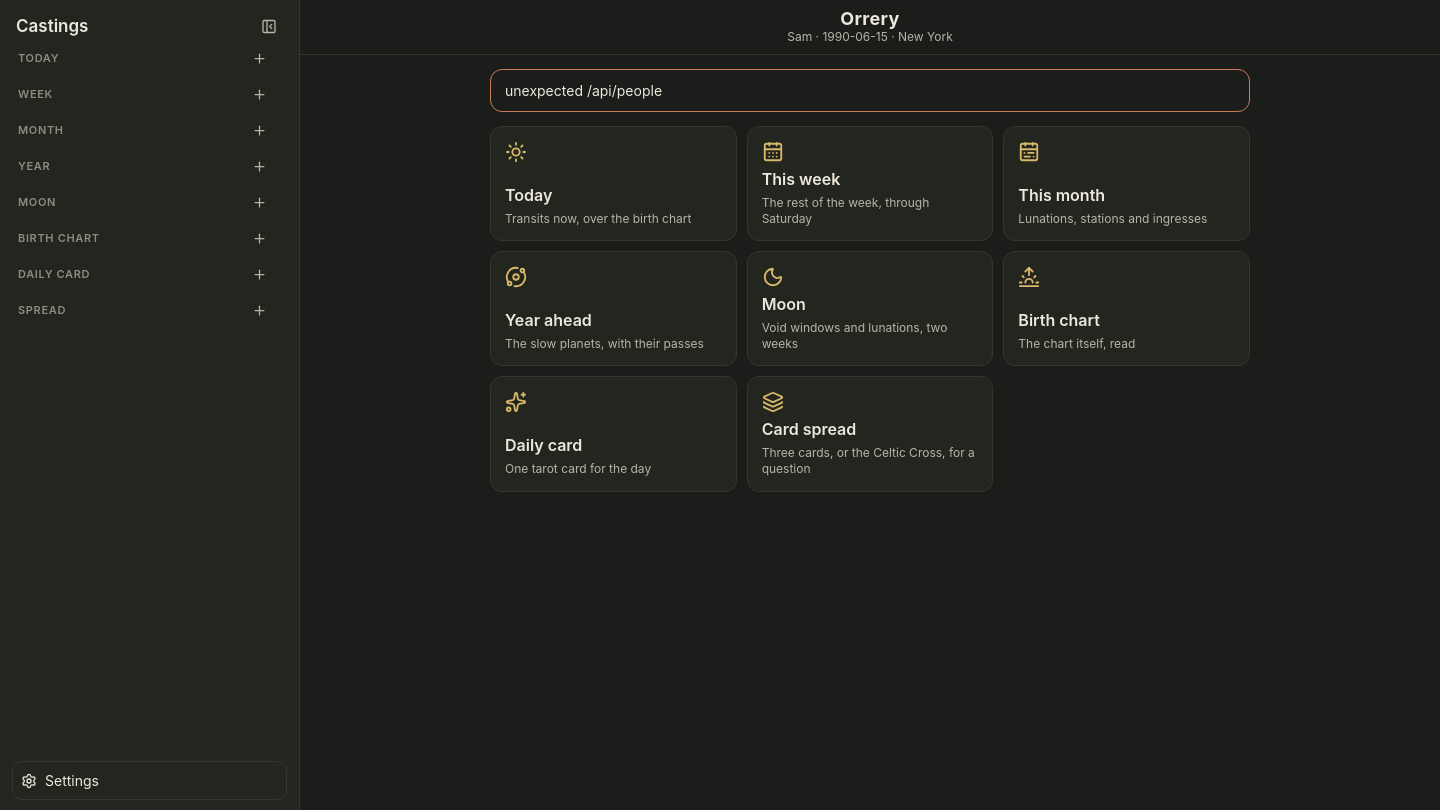
Scenario: App › opens a popup from a tile where memory, the memories, the kind and a note are chosen, then casts with them
Step 1. Click the list item "Void windows and lunations, two weeks" → (870, 309), box [747, 251, 993, 366]
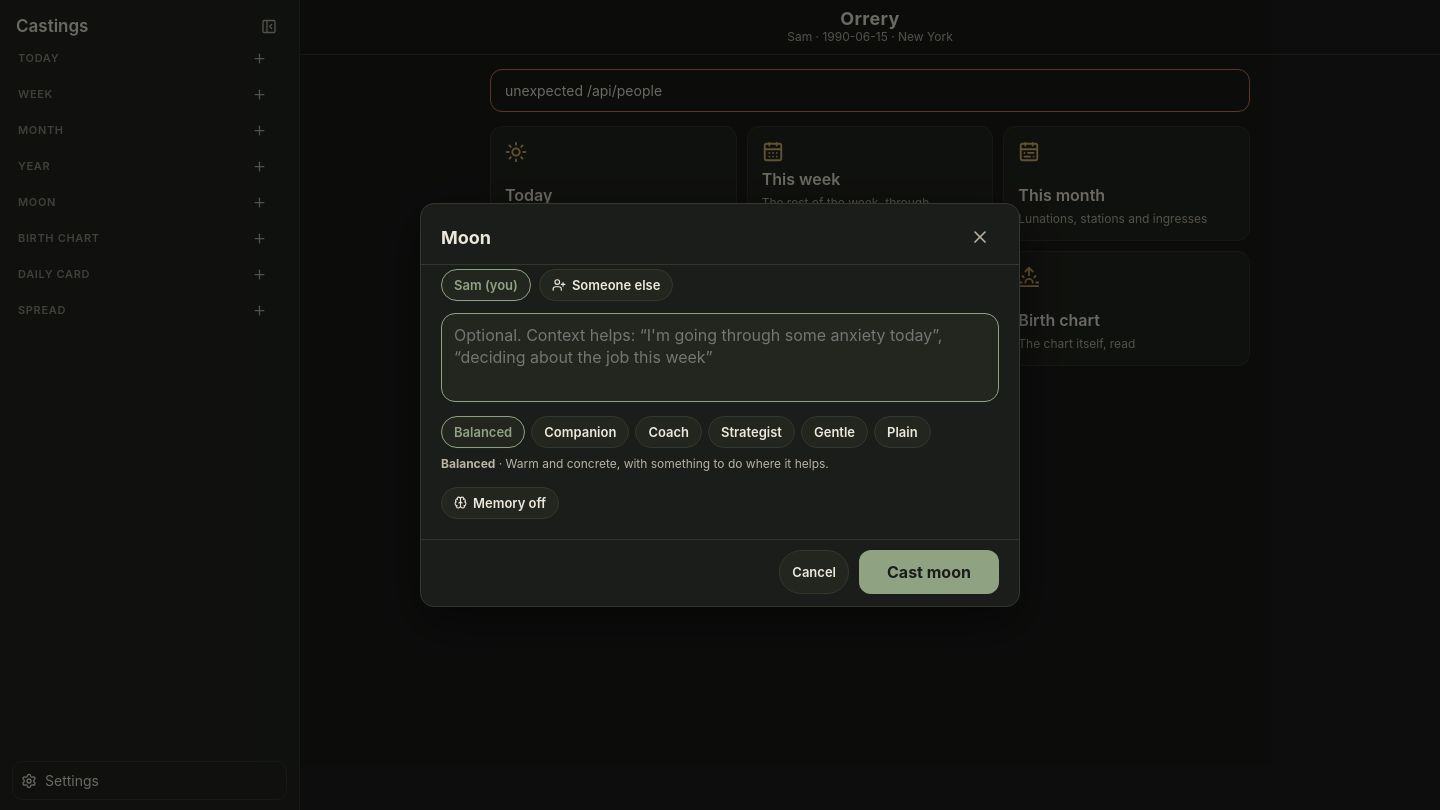
Step 2. Click the switch labelled "Memory off" → (500, 503), box [441, 487, 559, 519]
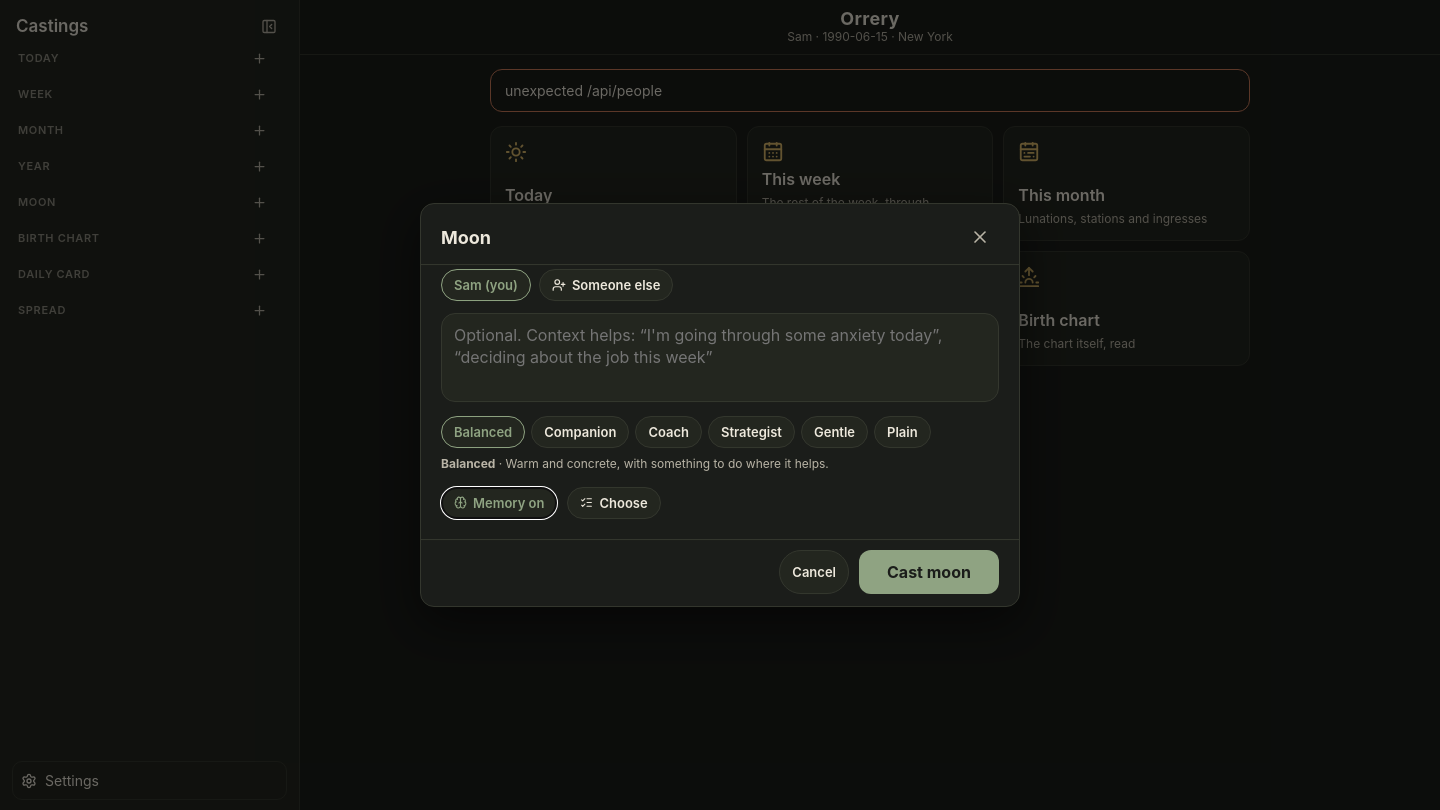
expect the switch labelled "Memory on" is shown: met, box [441, 487, 558, 519]
Step 3. Click the button "Choose" → (614, 503), box [568, 487, 661, 519]
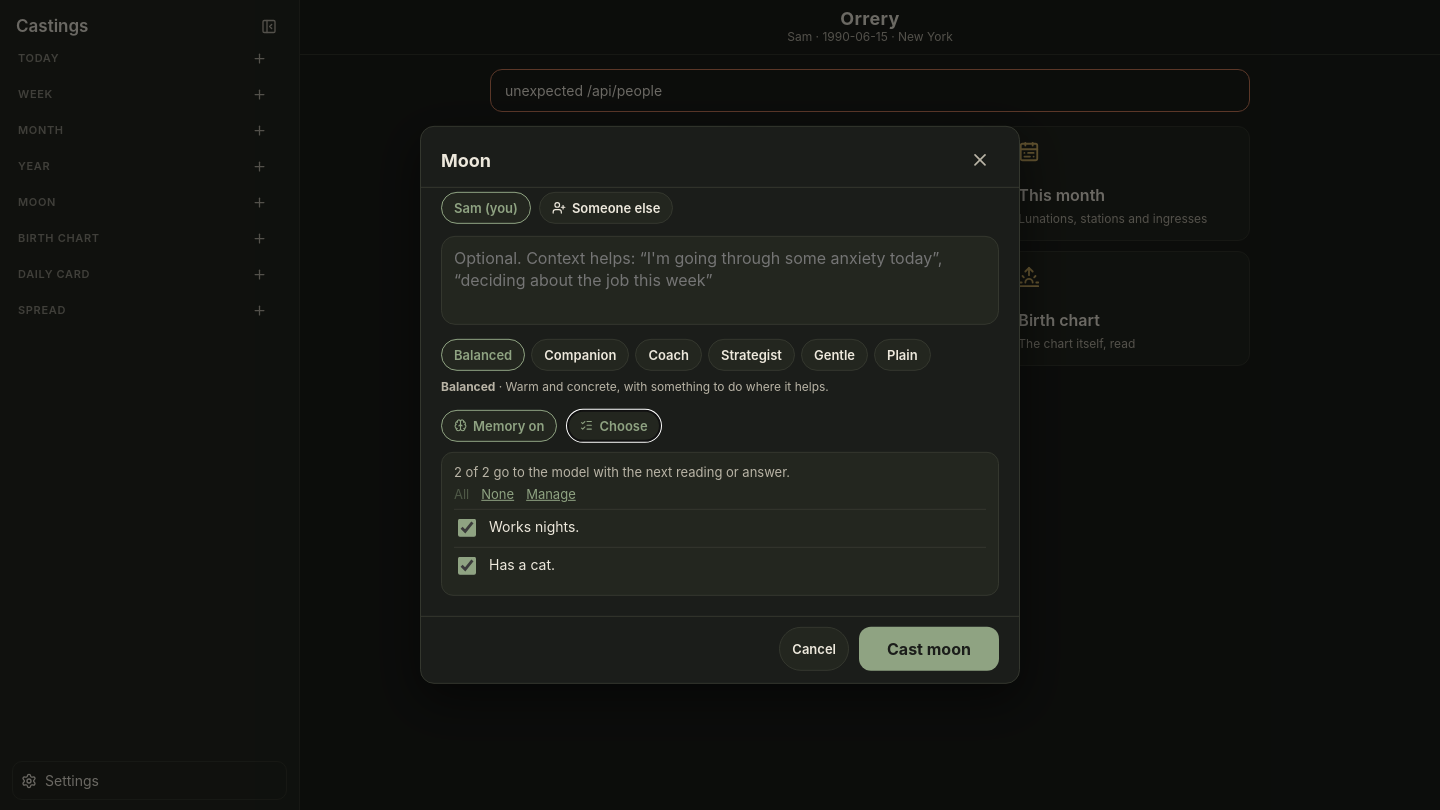
Step 4. Click the checkbox labelled "Has a cat." → (467, 566), box [458, 557, 476, 575]
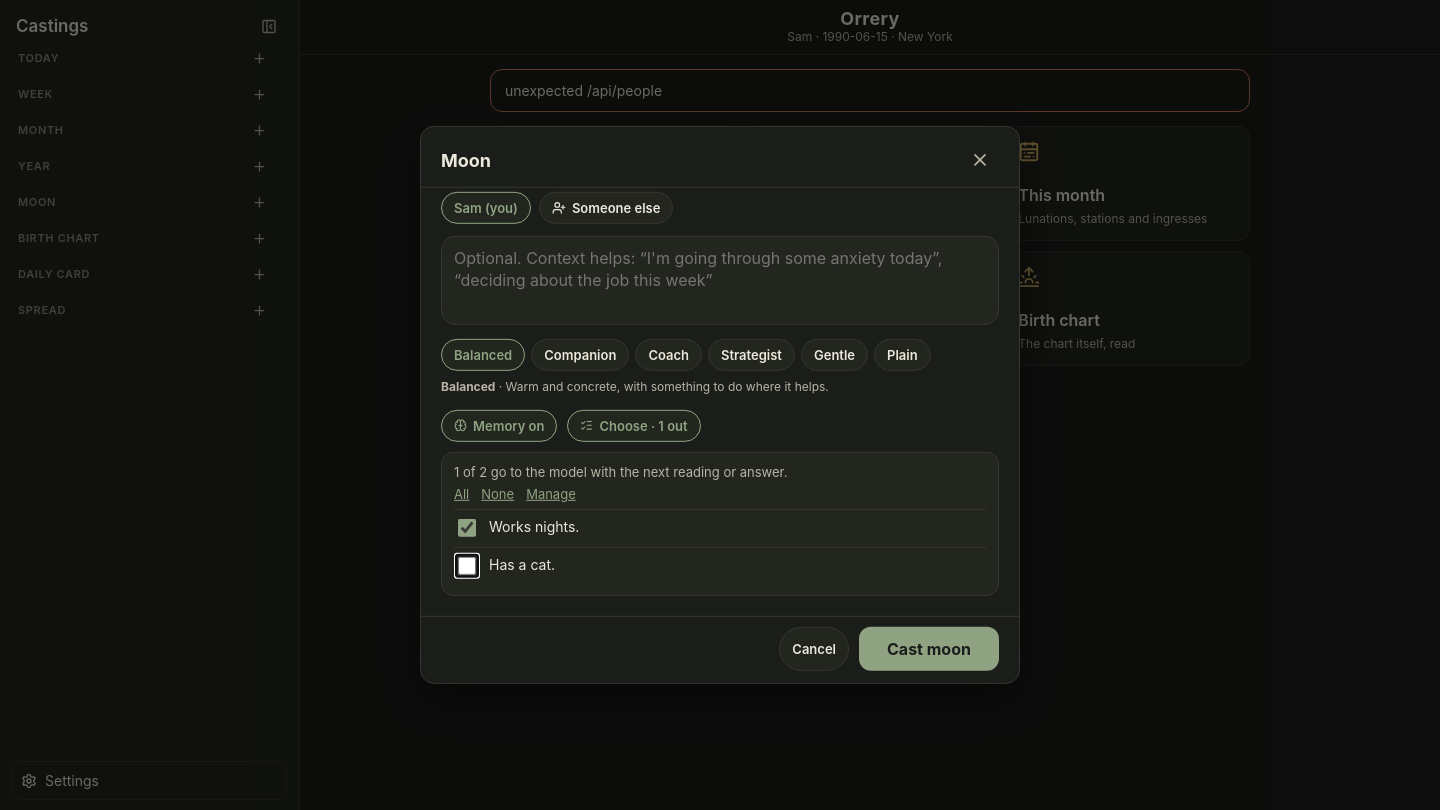
expect the button "Choose · 1 out" is shown: met, box [568, 410, 701, 442]
Step 5. Type "I'm going through some anxiety today" into the text box named "What do you want from this reading?" → (720, 280), box [441, 236, 999, 325]
Step 6. Click the radio button labelled "Gentle" → (835, 355), box [801, 339, 868, 371]
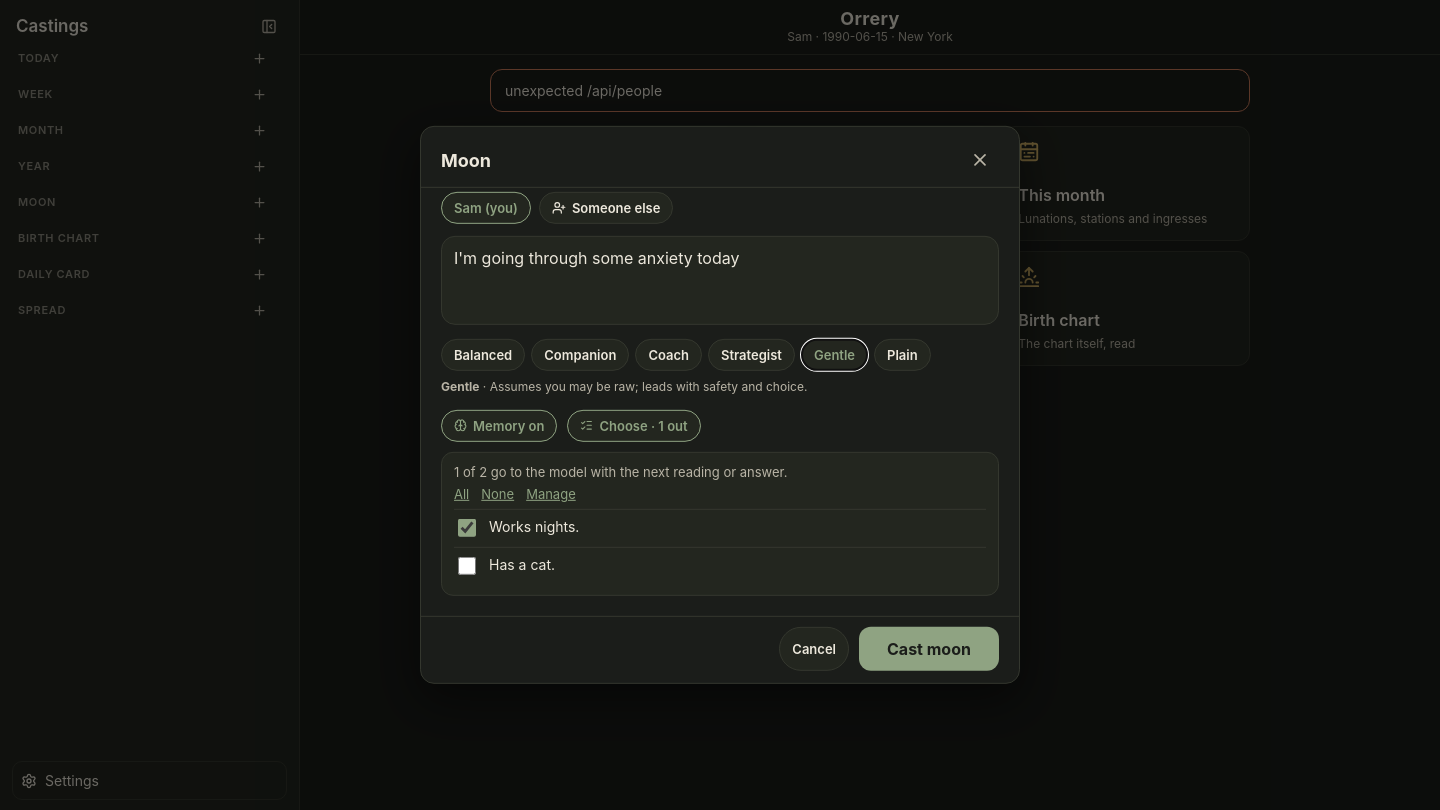
Step 7. Click the button "Cast moon" → (929, 649), box [859, 627, 999, 671]
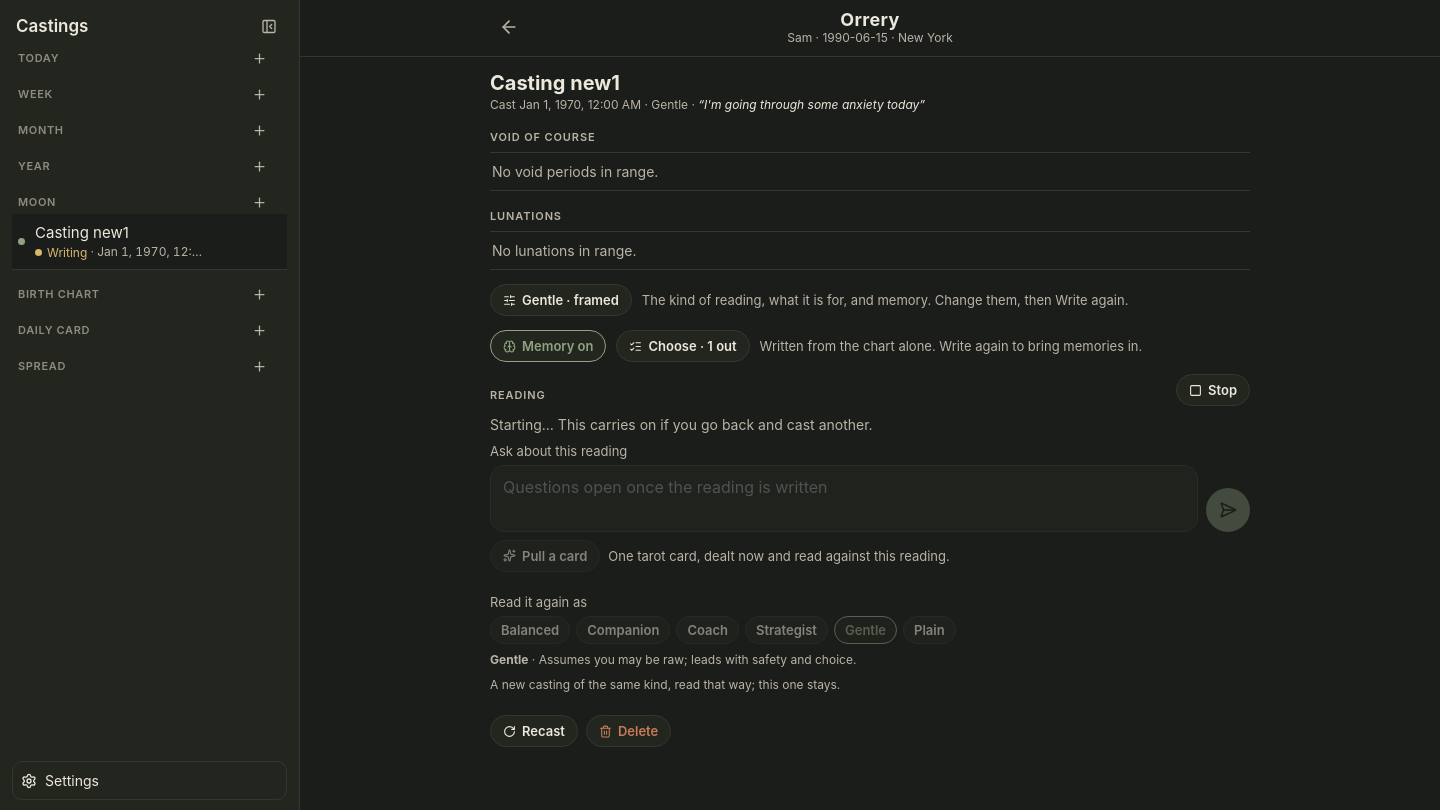
expect the heading "Casting new1" is shown: met, box [490, 71, 620, 95]
expect the text "Cast " shows "· Gentle · I'm going through some anxiety today": met, box [490, 97, 919, 112]
